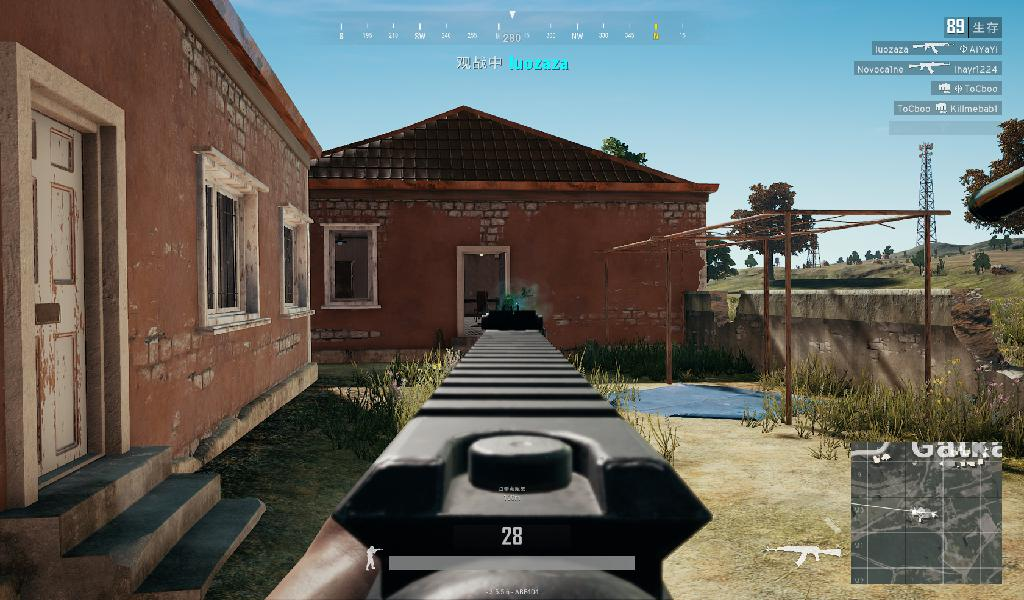Target Person: (497, 290, 535, 338)
